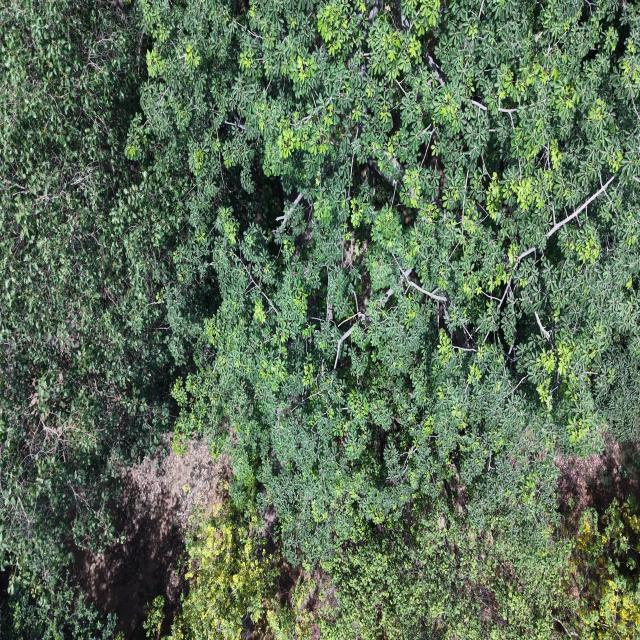DRY_AREA: (76, 441, 229, 639)
VEGETATION_TREE: (0, 0, 639, 639), (130, 0, 639, 637), (0, 0, 217, 638)
